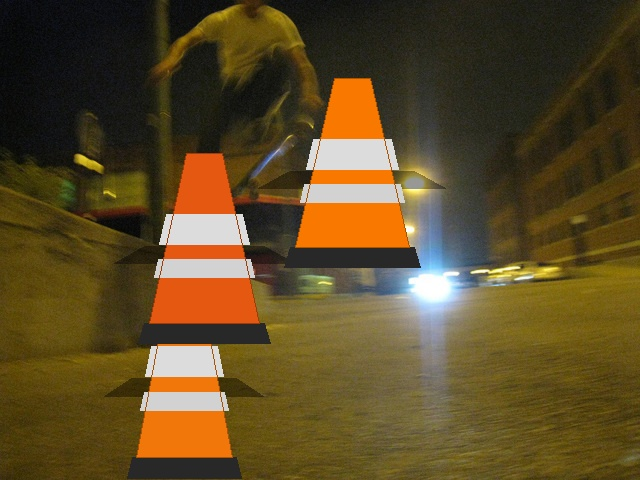traffic-cone: (284, 78, 420, 267), (138, 153, 270, 343), (127, 282, 241, 478)
